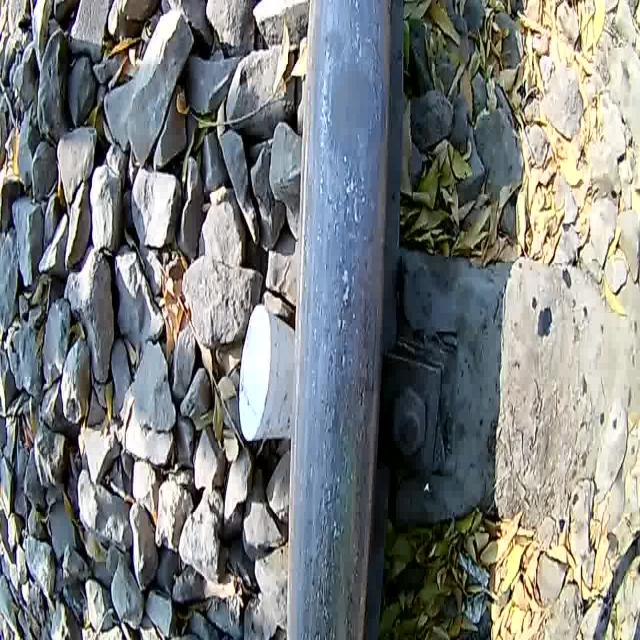Squats: (269, 0, 416, 640)
